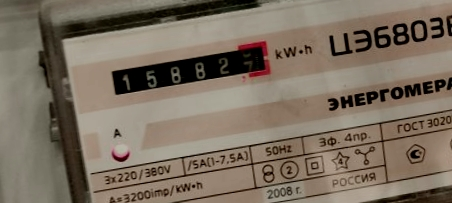1: (118, 71, 133, 91)
2: (216, 55, 230, 75)
5: (143, 67, 158, 89)
7: (242, 58, 254, 73)
8: (192, 59, 207, 82), (167, 63, 182, 85)
screen: (101, 34, 281, 104)
